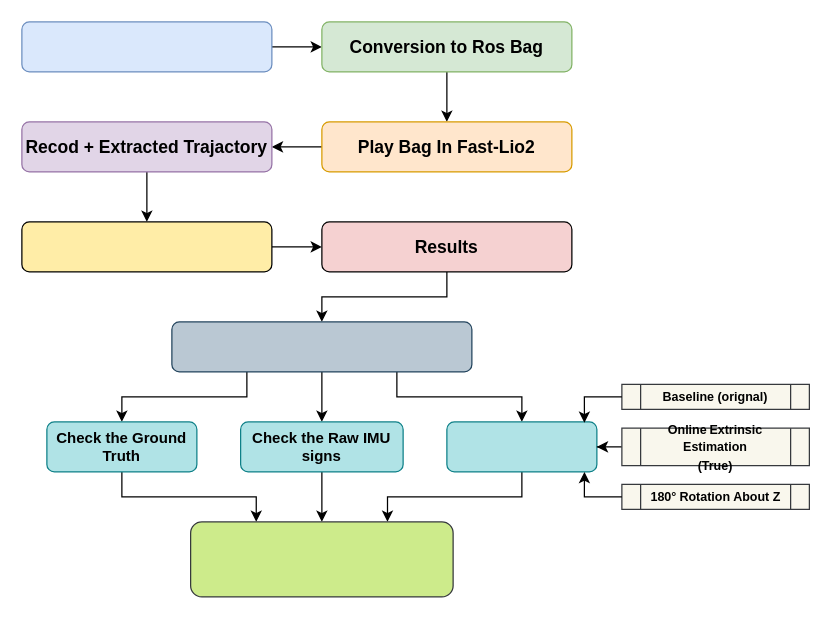
Some shapes in this 831 by 619 pixel diagram are drawn without their labels. Here are the shapes that lost their labels. From the top down, the centre of each, then its label:
At point 146,46: "Sensor Recoded Date".
At point 146,246: "Evalutation (evo ATE, Se(3) Umeyama Aligmnet)".
At point 321,346: "Diagnostic investigation".
At point 521,446: "Test the Extrinsic Calibaration".
At point 321,559: "Confirmed Result (Offset present from t=0 not accumulating over time)".
